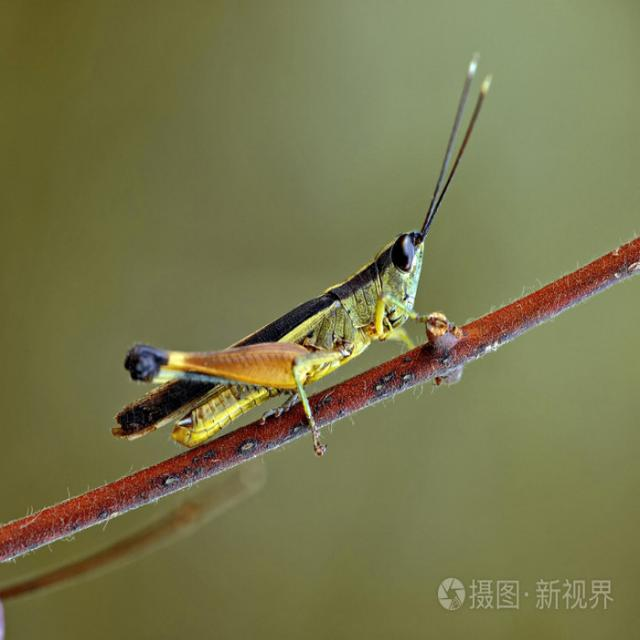ZhaMeng: (67, 96, 513, 463)
